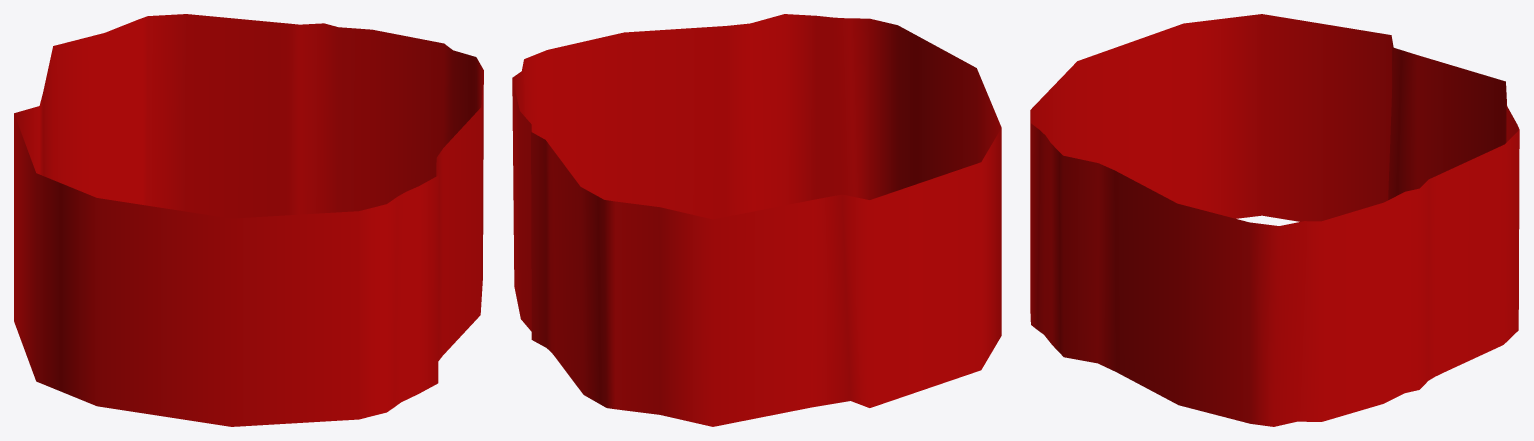
Rendered from Volcano_COLLISION.fbx.
3 renders of one model, left to right at view 1: azimuth 30°, elevation 25°; view 2: azimuth 150°, elevation 25°; view 3: azimuth 270°, elevation 25°, orthographic. The views are drawn at different scales.
Parts seen in each view (by area): view 1: polySurface3; view 2: polySurface3; view 3: polySurface3.
Part boxes in pixels (x1=…): polySurface3: x1=14, y1=14, x2=483, y2=426; polySurface3: x1=512, y1=14, x2=1001, y2=426; polySurface3: x1=1030, y1=14, x2=1519, y2=426.
Size of what is drawn, in the model's own units: 89900 by 39864 by 87621.
